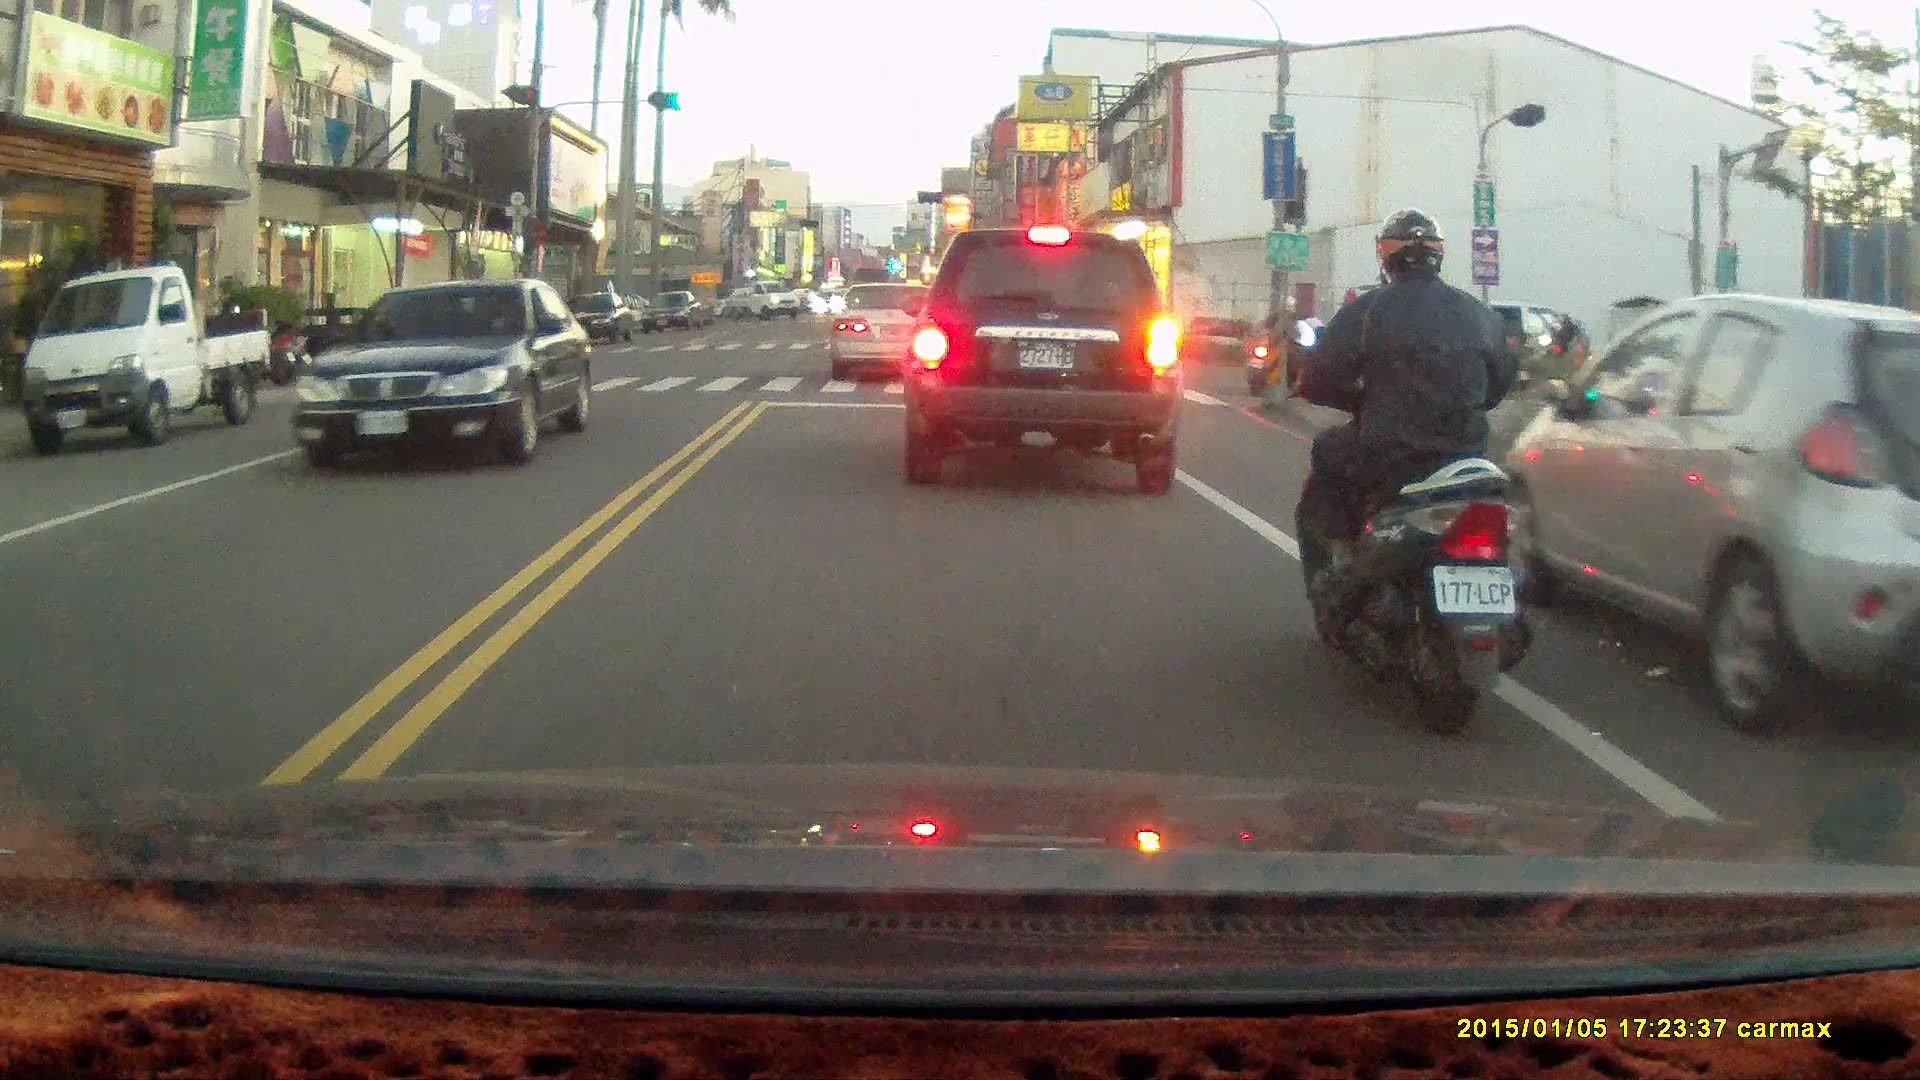rider: (1279, 208, 1540, 741), (1247, 296, 1330, 396), (1523, 311, 1593, 393)
vehicle: (1500, 295, 1920, 740), (900, 225, 1184, 497), (282, 277, 598, 471), (8, 268, 270, 456), (830, 282, 941, 380), (556, 291, 639, 348), (638, 291, 708, 336)
